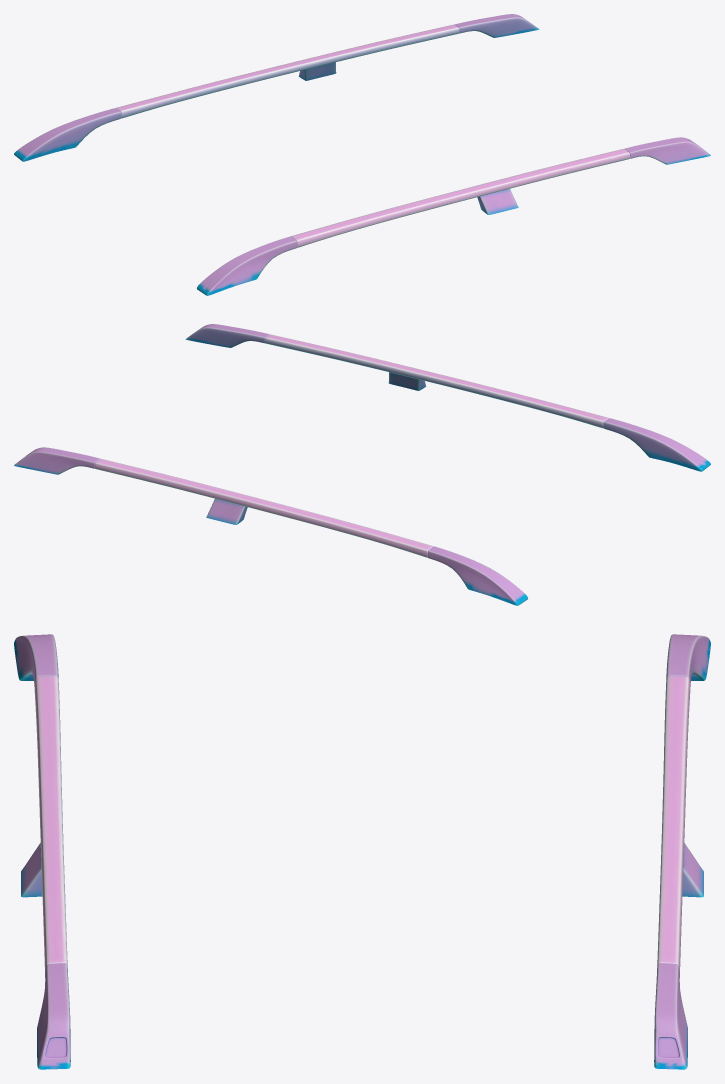
File: roof_rails.glb
The picture shows the model from 3 angles, top to bottom: view 1: azimuth 30°, elevation 25°; view 2: azimuth 150°, elevation 25°; view 3: azimuth 270°, elevation 25°; orthographic projection. The views are drawn at different scales.
Parts seen in each view (by area): view 1: carpaint_7, chrome_3, chrome_4; view 2: carpaint_7, chrome_3, chrome_4; view 3: carpaint_7, chrome_3, chrome_4.
Part boxes in pixels (left/top/right/bottom): carpaint_7: left=116, top=24, right=630, bottom=247; chrome_3: left=14, top=14, right=710, bottom=295; chrome_4: left=298, top=62, right=518, bottom=214; carpaint_7: left=94, top=334, right=608, bottom=557; chrome_3: left=14, top=324, right=710, bottom=605; chrome_4: left=206, top=372, right=426, bottom=524; carpaint_7: left=34, top=675, right=690, bottom=971; chrome_3: left=14, top=634, right=710, bottom=1069; chrome_4: left=21, top=843, right=703, bottom=897.
Size of the model in its own units: 1.91 by 0.1154 by 1.25.
